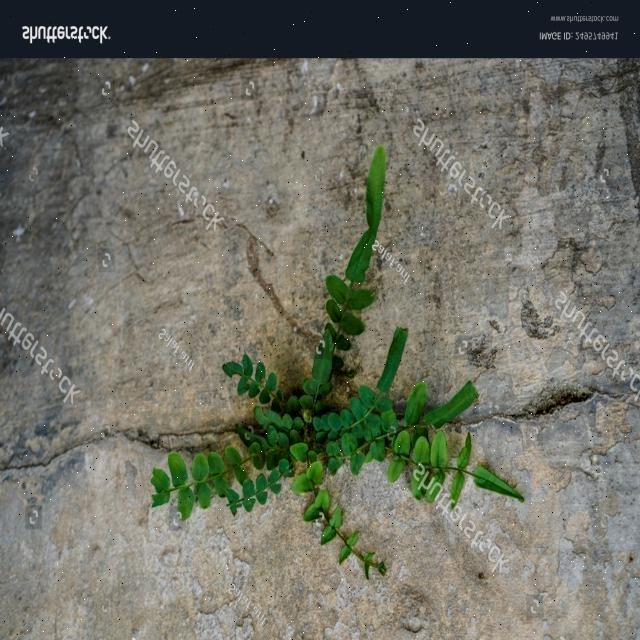vegetation: (147, 143, 524, 579)
